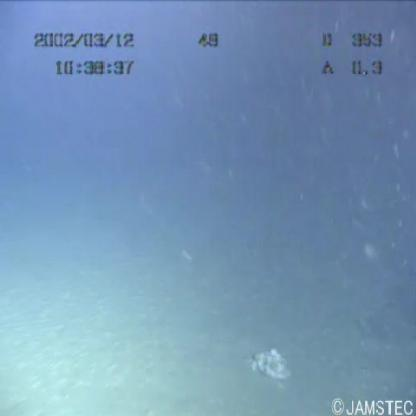Rác: (232, 335, 302, 387)
